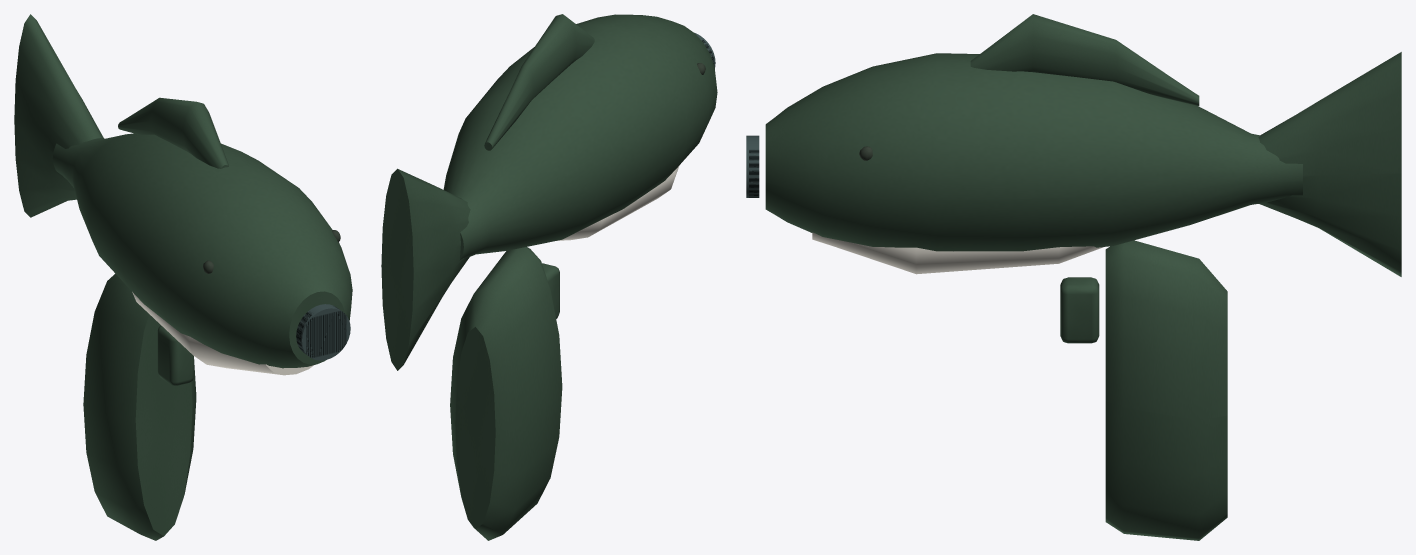
File: FishWaterGun.fbx
The picture shows the model from 3 angles, left to right: view 1: azimuth 30°, elevation 25°; view 2: azimuth 150°, elevation 25°; view 3: azimuth 270°, elevation 25°; orthographic projection. The views are drawn at different scales.
Visible parts, largest first — view 1: FishWaterGun_Mesh; view 2: FishWaterGun_Mesh; view 3: FishWaterGun_Mesh.
Part boxes in pixels (<box>): FishWaterGun_Mesh: <box>14,14,352,540</box>; FishWaterGun_Mesh: <box>381,14,717,540</box>; FishWaterGun_Mesh: <box>746,14,1401,540</box>.
Size of the model in its own units: 0.082 by 0.224 by 0.2525.
Materials: 1 (1 with a texture image).
